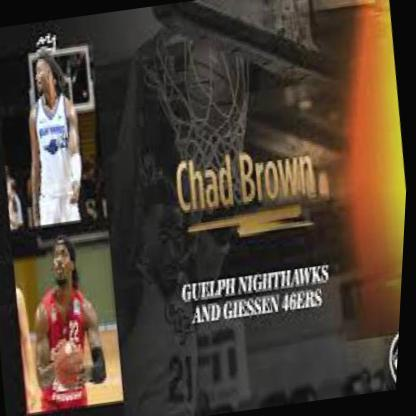basketball: (56, 341, 91, 392)
